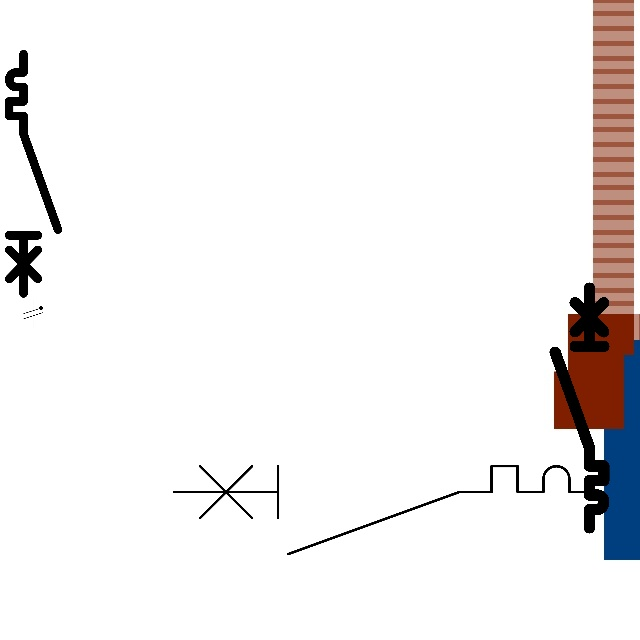interruptor_termomagnetico: (163, 455, 613, 565), (549, 282, 610, 534), (3, 48, 64, 300)
